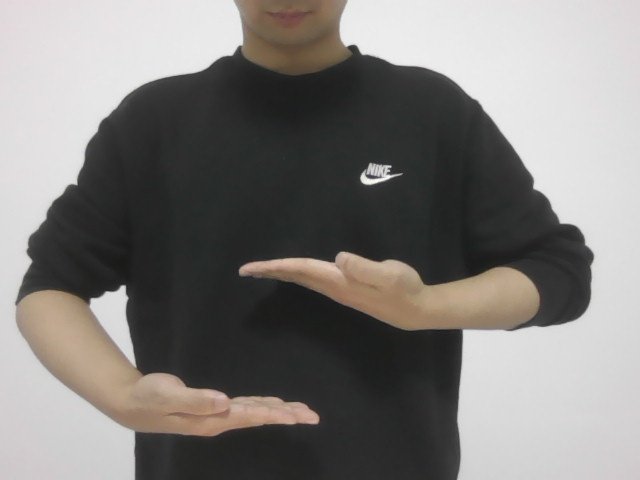happy: (126, 244, 436, 440)
